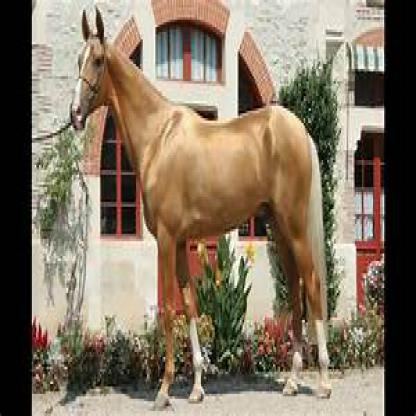horse: (69, 7, 333, 411)
